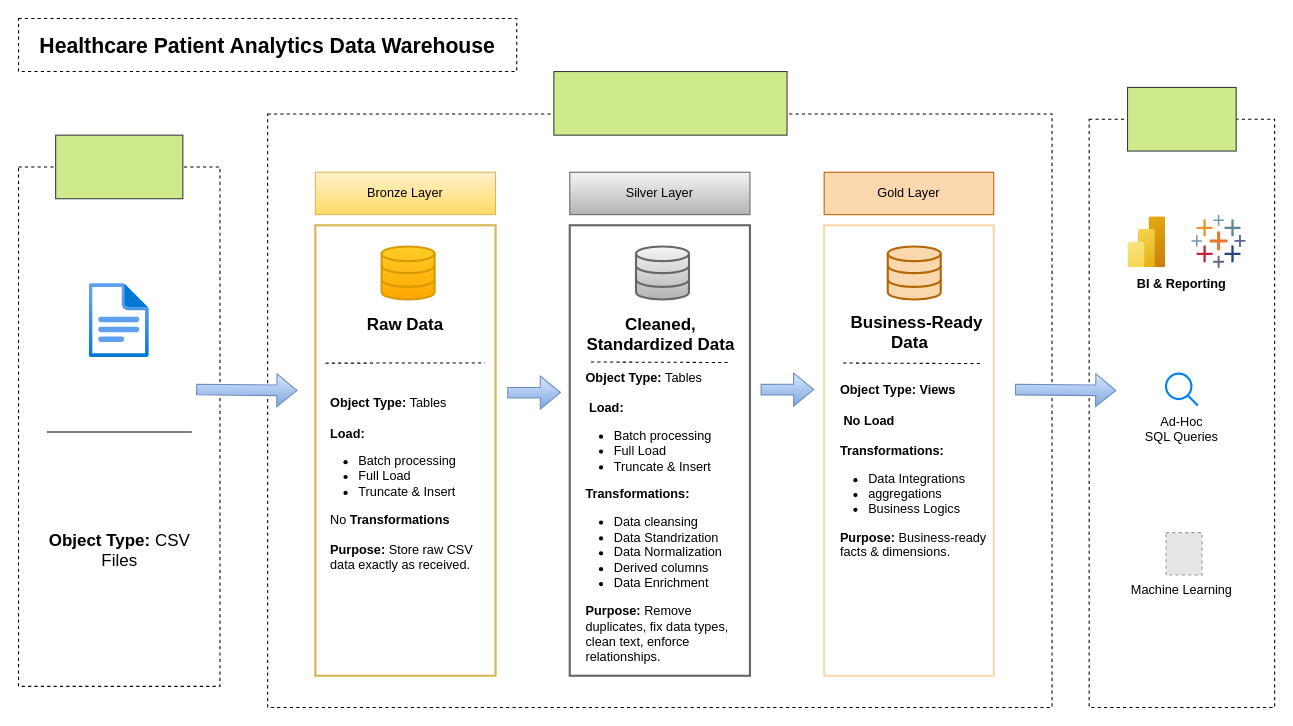
The diagram is 1293 pixels wide and 726 high, and some of its shapes have lost their labels. Grey dashed boxes stand in for pictures. Here are the shapes that lost their labels. From the top down, the centre of each, then its label:
At point 670,102: "Data Warehouse".
At point 1181,118: "Consume".
At point 119,166: "Sources".
At point 119,320: "Datasets".
